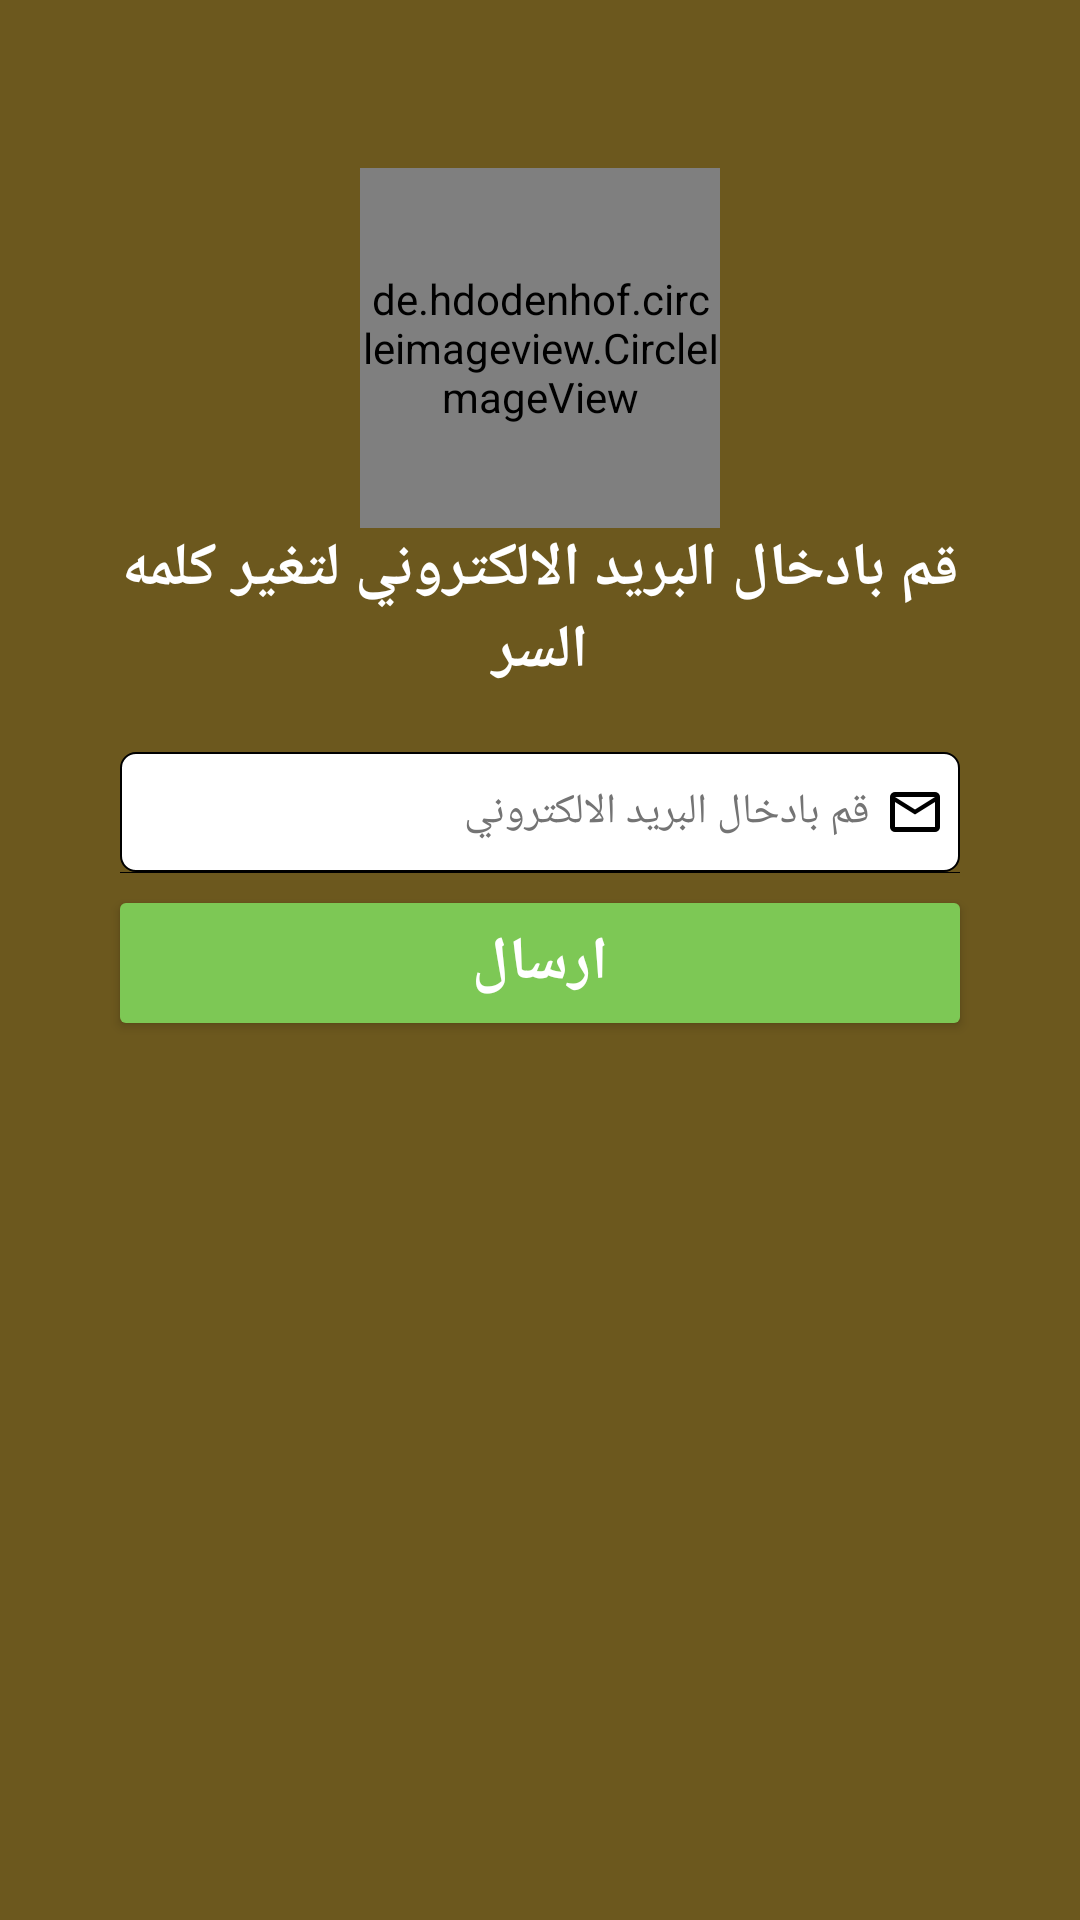

Icons on this 1080 x 1920 Android screen, each with the point to tap as [x,y]:
email: [915,812]
